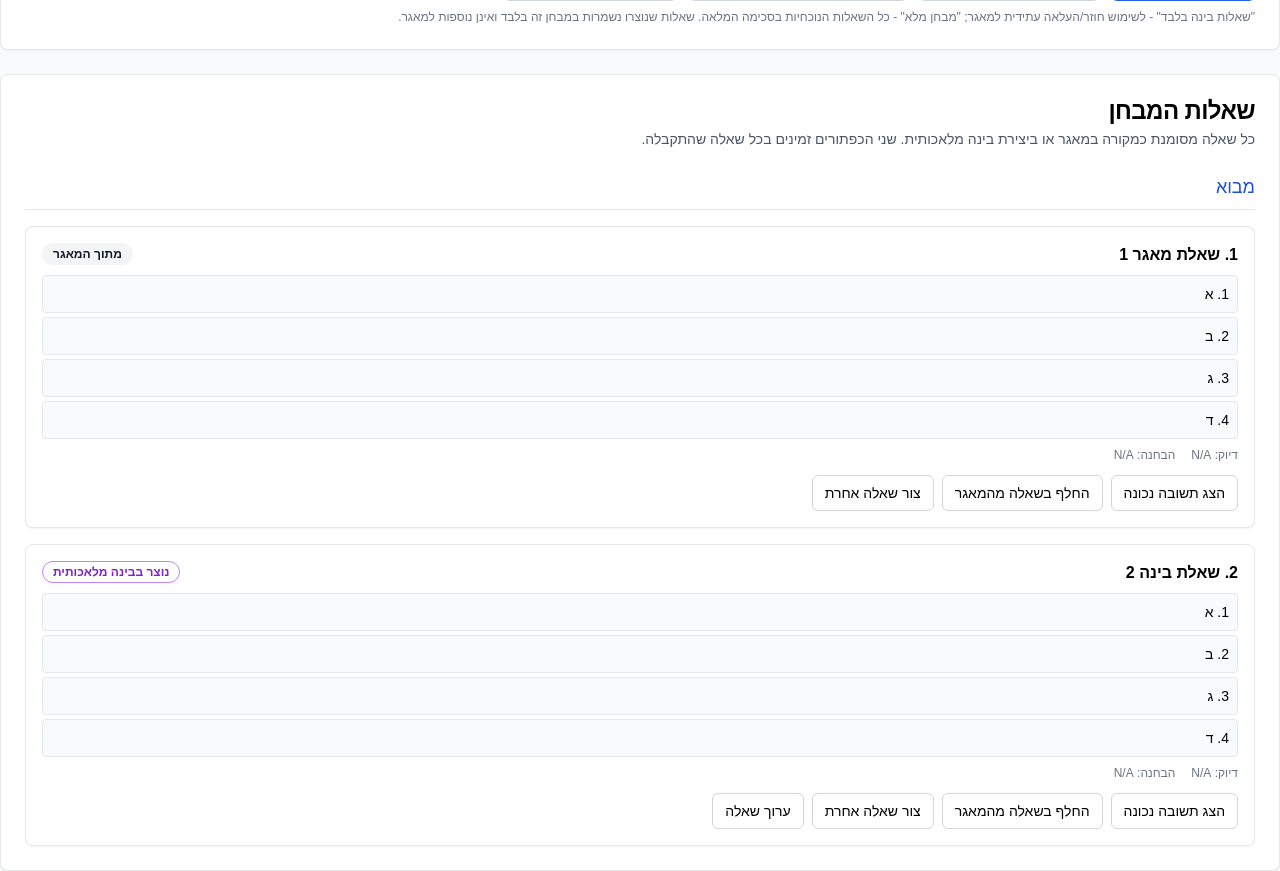
Test: WP28 - edit form validation, cancel, save, and rerender › a successful save persists through the backend and rerenders immediately
(page scrolled)
Expected: the text "1. שאלת מאגר 1" is shown, [1119,246,1238,263]
Click the button with test id "edit-question-button": (758, 811) [712,793,804,829]
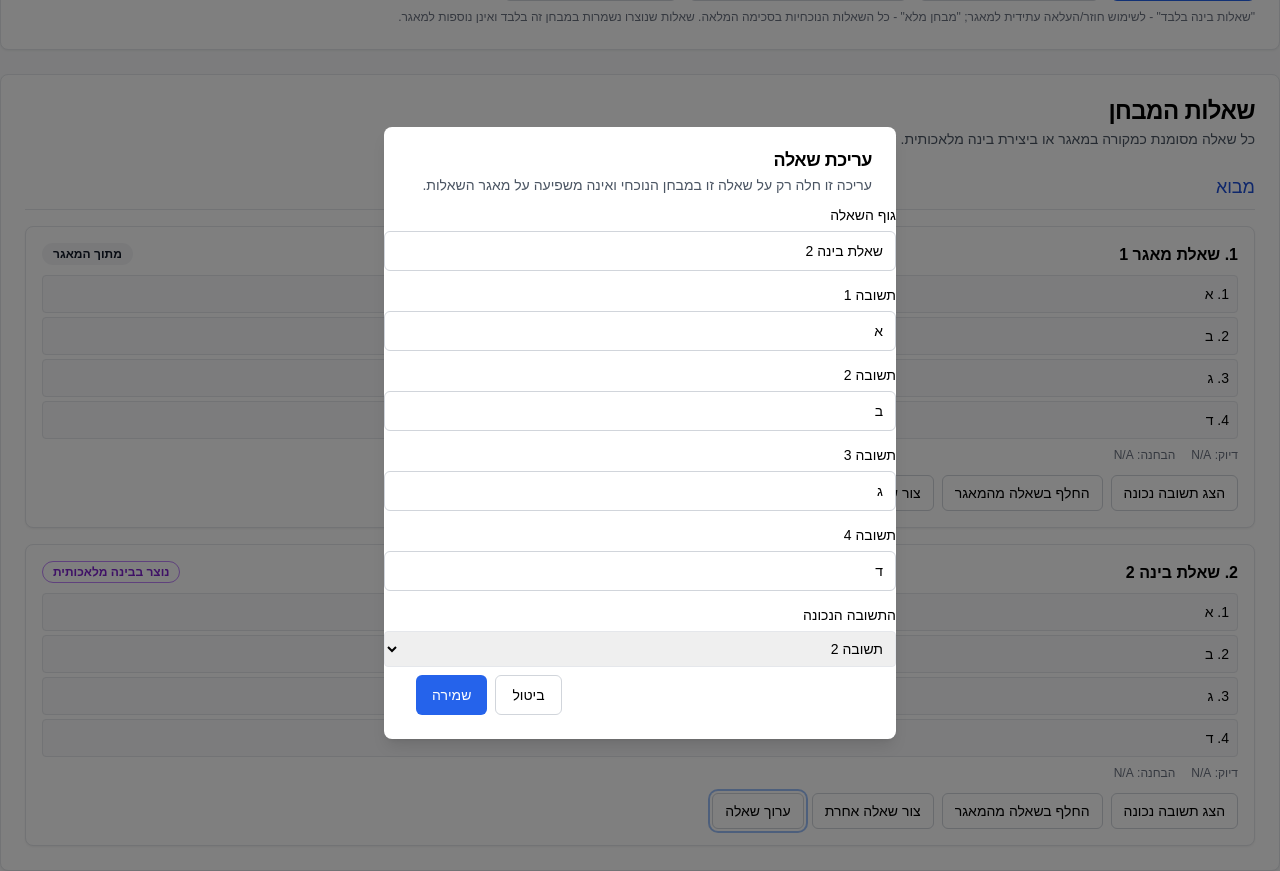
Replace the text in the field labelled "גוף השאלה" with "שאלה מתוקנת": (640, 251) [384,231,896,271]
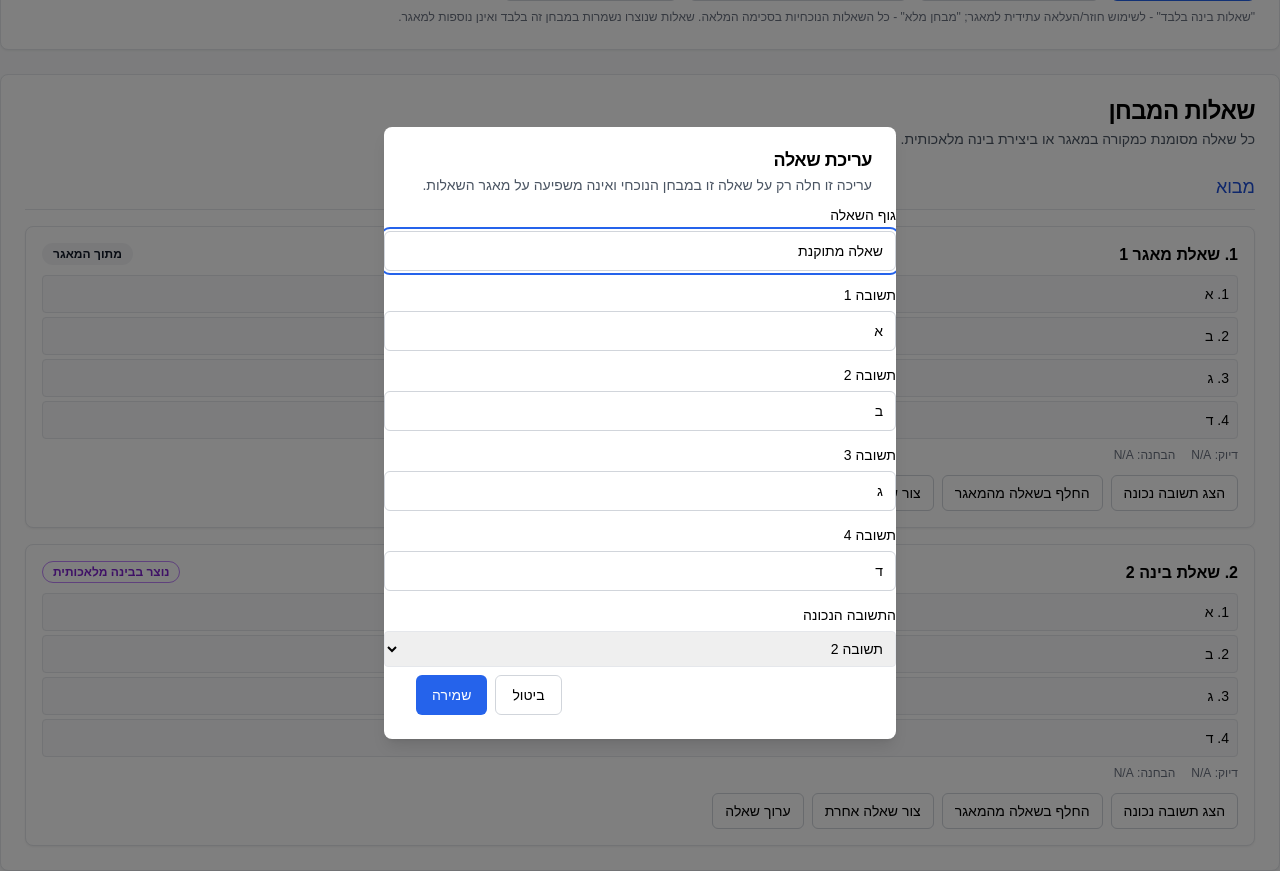
Click the button "שמירה": (452, 695) [416,675,487,715]
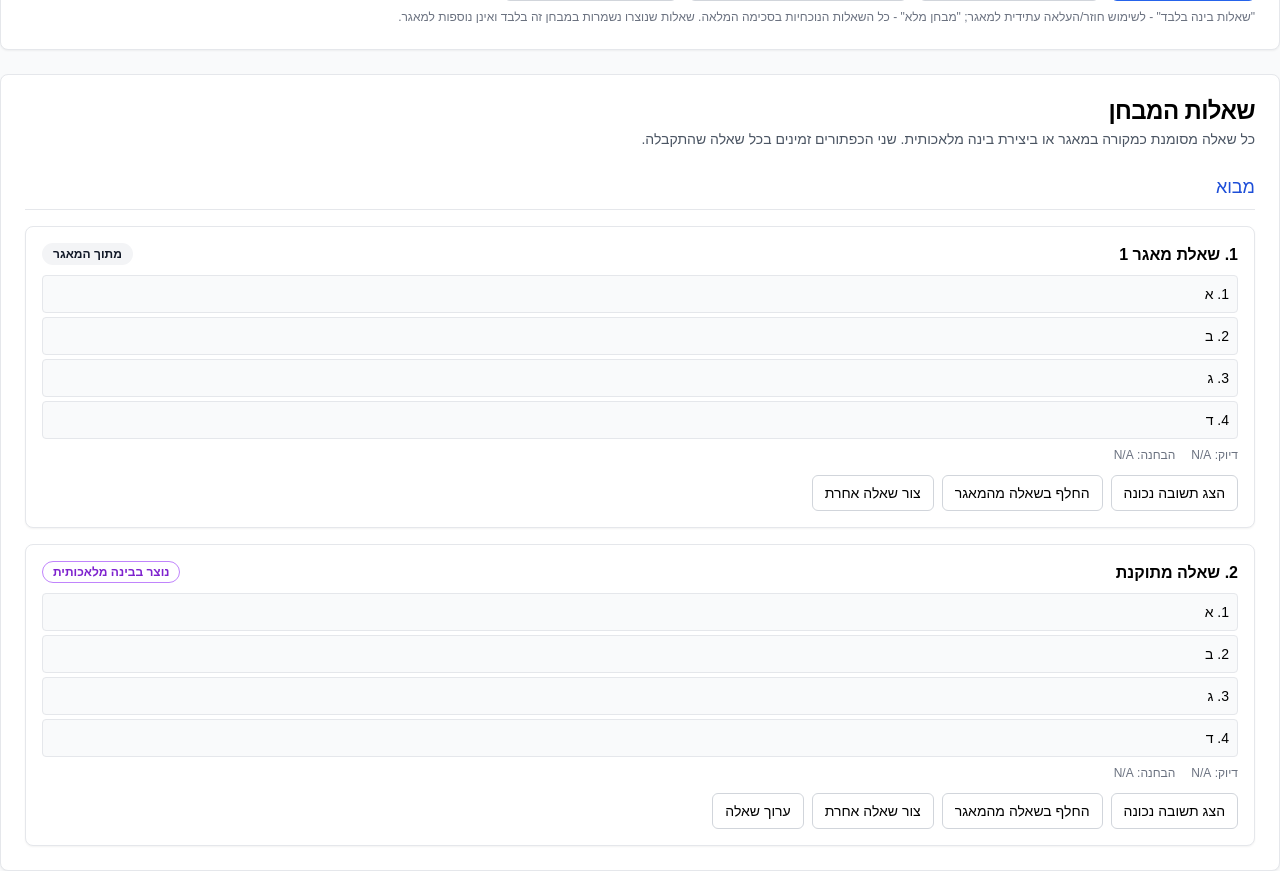
Expected: the text "2. שאלה מתוקנת" is shown, [1116,564,1238,581]
Expected: the heading "עריכת שאלה" is gone
